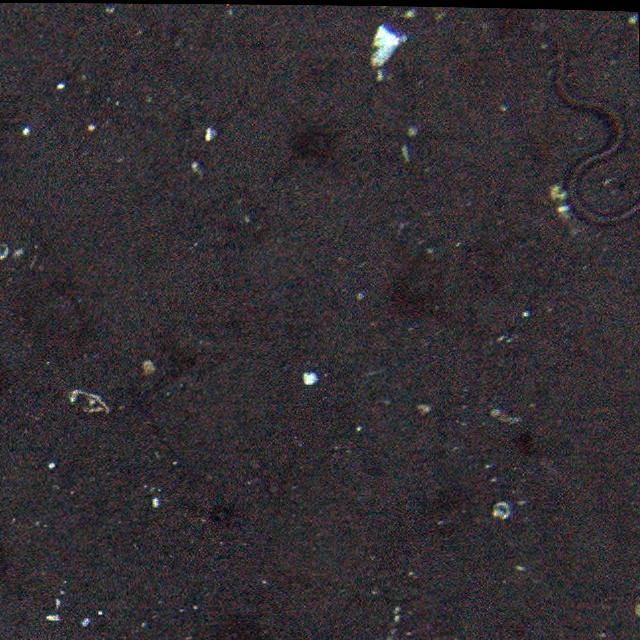eel: (551, 52, 640, 228)
